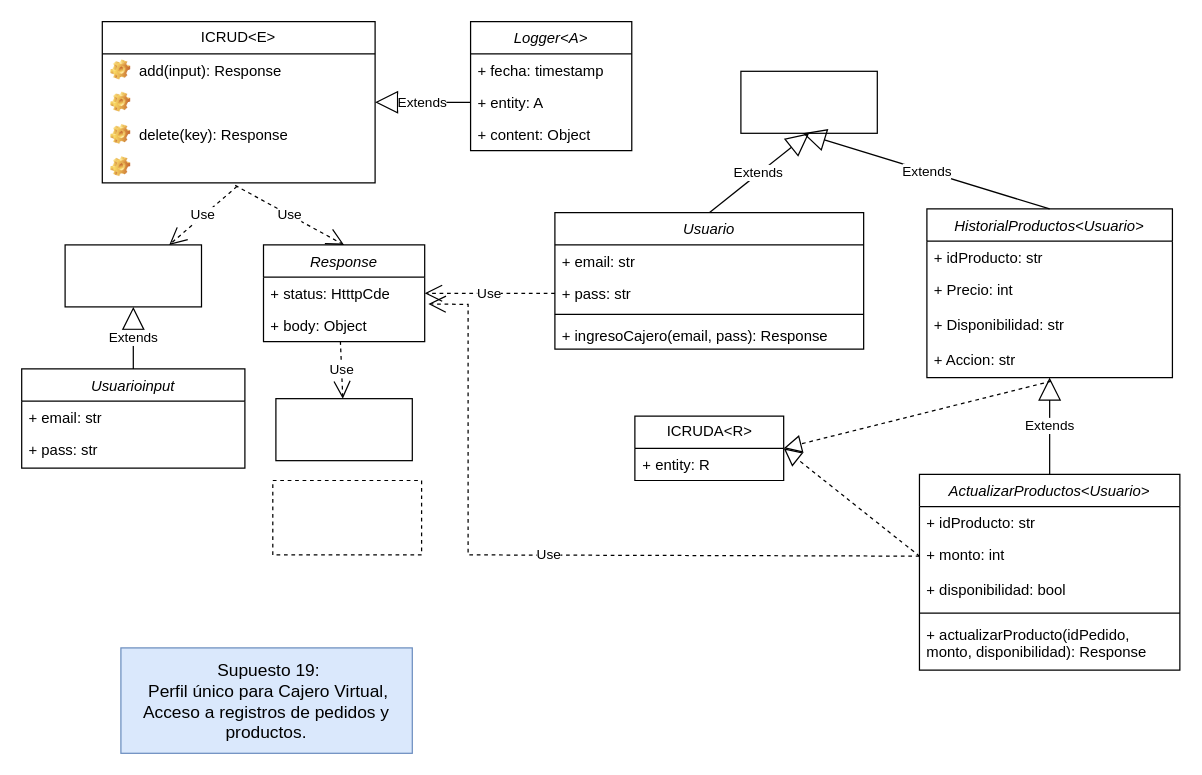
Image size: 1202x775. Some labels were removed from this diagram. Each missing label, with the centre of its shape:
200: OK 423 Locked 404: Not Found: (347,517)
HttpCode: (343,429)
query(key): Response: (238,166)
update(key, input): Response: (238,102)
«interface» ICRUD: (808,101)
«interface» input: (133,275)
